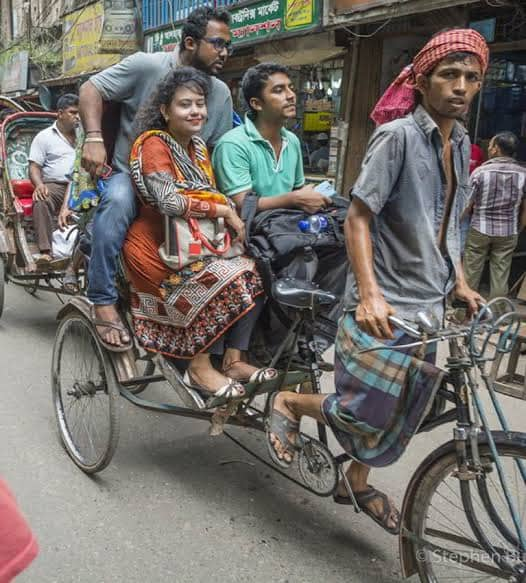Rickshaw: (68, 86, 521, 557), (2, 97, 89, 314)
